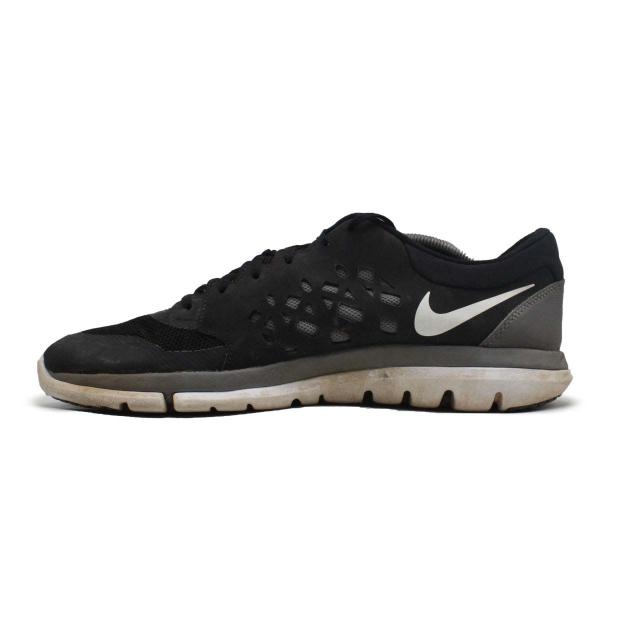heel: (495, 224, 563, 348)
midsole: (33, 345, 571, 414)
uppersole: (43, 213, 507, 372)
